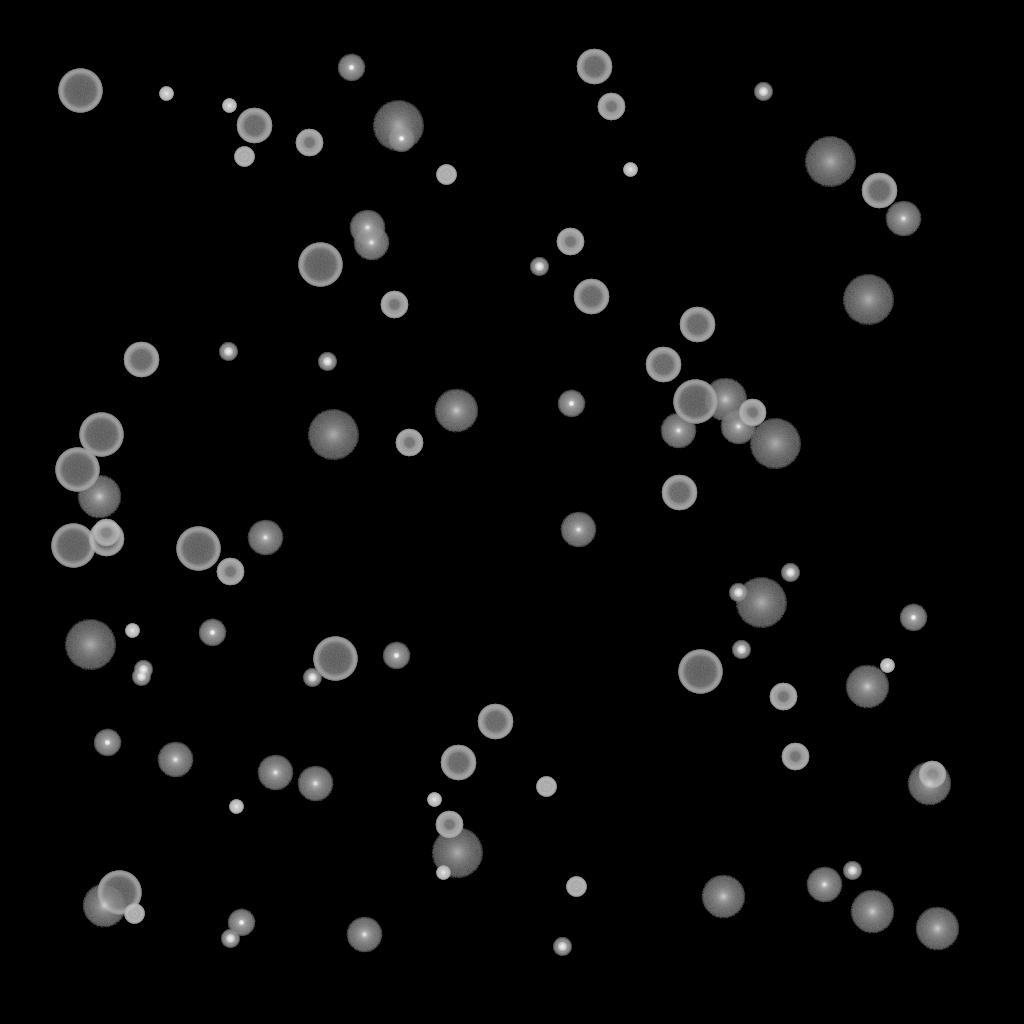depth:-10: (899, 604, 927, 632), (557, 390, 585, 418), (227, 909, 255, 937), (337, 54, 365, 82), (382, 642, 410, 670), (198, 619, 226, 647), (387, 125, 415, 153), (93, 729, 121, 757)
depth:-20: (754, 83, 772, 101), (221, 930, 239, 948), (318, 353, 336, 371), (530, 258, 548, 276), (843, 862, 861, 880), (553, 938, 571, 956), (132, 668, 150, 686), (732, 641, 750, 659), (219, 343, 237, 361), (729, 584, 747, 602), (134, 661, 152, 679), (781, 564, 799, 582), (303, 669, 321, 687)
depth:-30: (623, 163, 637, 177), (427, 793, 441, 807), (229, 800, 243, 814), (125, 624, 139, 638), (159, 87, 173, 101), (436, 866, 450, 880), (880, 659, 894, 673), (222, 99, 236, 113)
depth:-40: (536, 777, 556, 797), (234, 147, 254, 167), (436, 165, 456, 185), (566, 877, 586, 897), (124, 904, 144, 924)
depth:-50: (918, 761, 946, 789), (380, 291, 408, 319), (216, 558, 244, 586), (781, 743, 809, 771), (435, 811, 463, 839), (556, 228, 584, 256), (92, 519, 120, 547), (738, 399, 766, 427), (395, 429, 423, 457), (597, 93, 625, 121), (295, 129, 323, 157), (769, 683, 797, 711)
depth:-60: (123, 342, 159, 378), (477, 704, 513, 740), (88, 521, 124, 557), (645, 347, 681, 383), (236, 108, 272, 144), (440, 745, 476, 781), (573, 279, 609, 315), (679, 307, 715, 343), (576, 49, 612, 85), (861, 173, 897, 209), (661, 475, 697, 511)
depth:-70: (55, 448, 99, 492), (298, 243, 342, 287), (678, 650, 722, 694), (176, 527, 220, 571), (97, 871, 141, 915), (673, 380, 717, 424), (313, 637, 357, 681), (51, 524, 95, 568), (79, 413, 123, 457), (58, 69, 102, 113)
depth:0: (806, 867, 842, 903), (349, 210, 385, 246), (297, 766, 333, 802), (247, 520, 283, 556), (720, 409, 756, 445), (346, 917, 382, 953), (353, 225, 389, 261), (257, 755, 293, 791), (660, 413, 696, 449), (885, 201, 921, 237), (560, 512, 596, 548), (157, 742, 193, 778)
depth:10: (907, 762, 951, 806), (845, 665, 889, 709), (82, 884, 126, 928), (701, 875, 745, 919), (915, 907, 959, 951), (850, 890, 894, 934), (703, 378, 747, 422), (434, 389, 478, 433), (77, 475, 121, 519)
depth:20: (804, 137, 856, 187), (307, 410, 359, 460), (749, 419, 801, 469), (842, 275, 894, 325), (64, 620, 116, 670), (735, 578, 787, 628), (372, 101, 424, 151), (431, 828, 483, 878)
